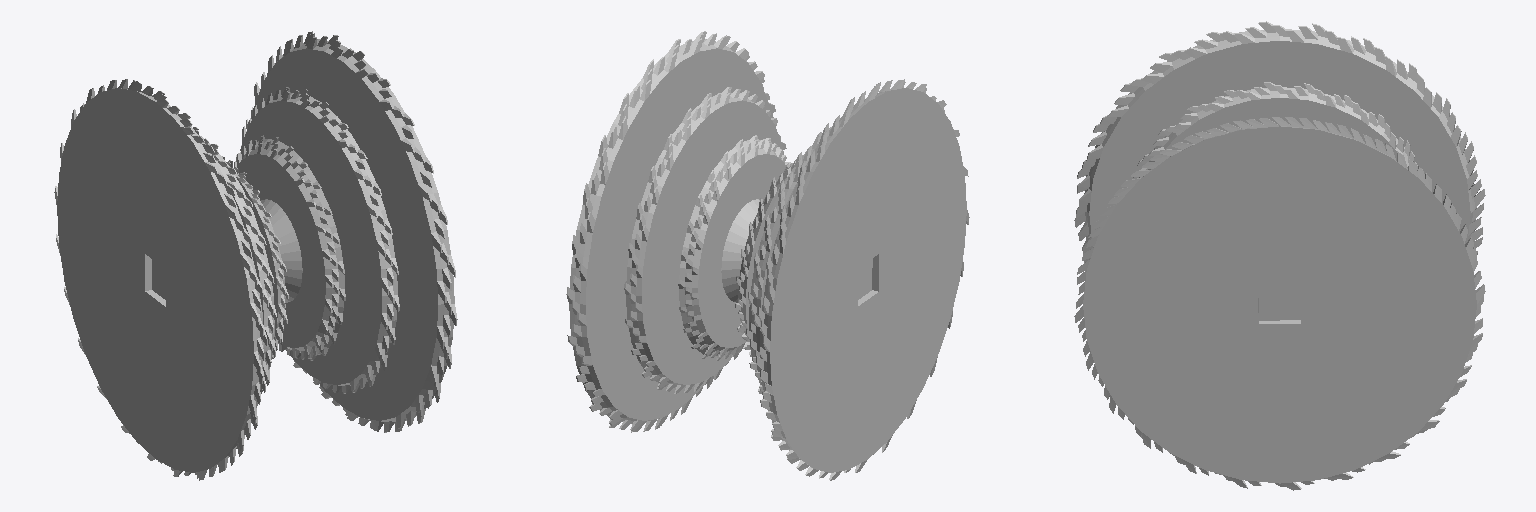
File: Lrg Digger.obj
3 renders of one model, left to right at view 1: azimuth 30°, elevation 25°; view 2: azimuth 150°, elevation 25°; view 3: azimuth 270°, elevation 25°, orthographic.
Visible parts, largest first — view 1: Cylinder.002; view 2: Cylinder.002; view 3: Cylinder.002.
Boxes of the visible parts, x1=… form: Cylinder.002: x1=54, y1=31, x2=457, y2=480; Cylinder.002: x1=566, y1=31, x2=969, y2=480; Cylinder.002: x1=1074, y1=21, x2=1485, y2=490.
Bounding box in the file's own units: 3 × 5.32 × 5.32.